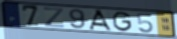5: (136, 12, 155, 34)
7: (21, 4, 41, 28)
9: (67, 8, 87, 30)
A: (88, 9, 114, 32)
G: (112, 11, 134, 32)
Z: (43, 7, 65, 29)
